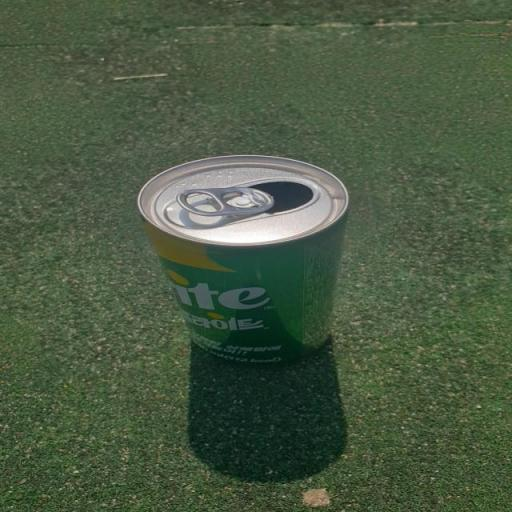metal: (116, 136, 415, 384)
